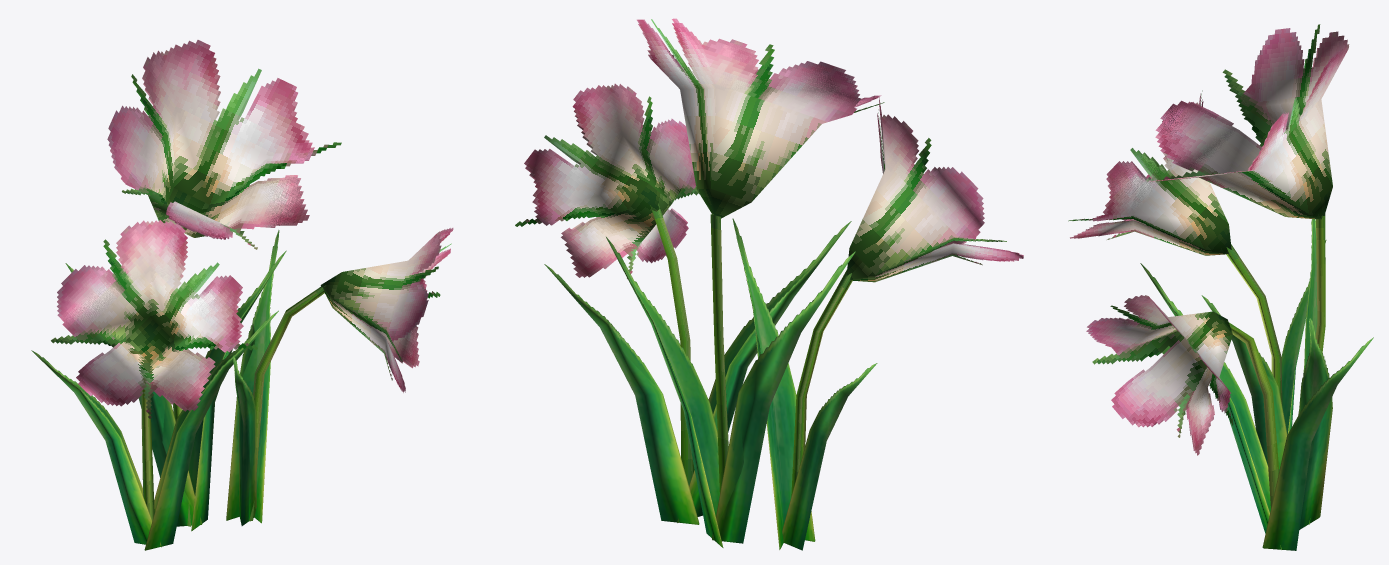
Rendered from Flower1_3.obj.
3 views of the same model, side by side, from view 1: azimuth 30°, elevation 25°; view 2: azimuth 150°, elevation 25°; view 3: azimuth 270°, elevation 25° (orthographic). The views are drawn at different scales.
Size of the model in its own units: 19.51 by 19.81 by 11.25.
Materials: 3 (3 with a texture image).
